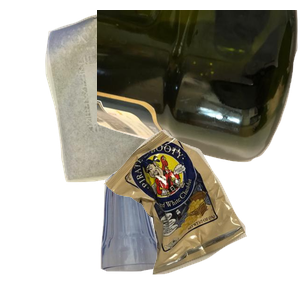glass: (98, 168, 251, 300)
paper: (43, 10, 221, 185)
plastic: (97, 10, 300, 165)
trash: (101, 127, 300, 300)
